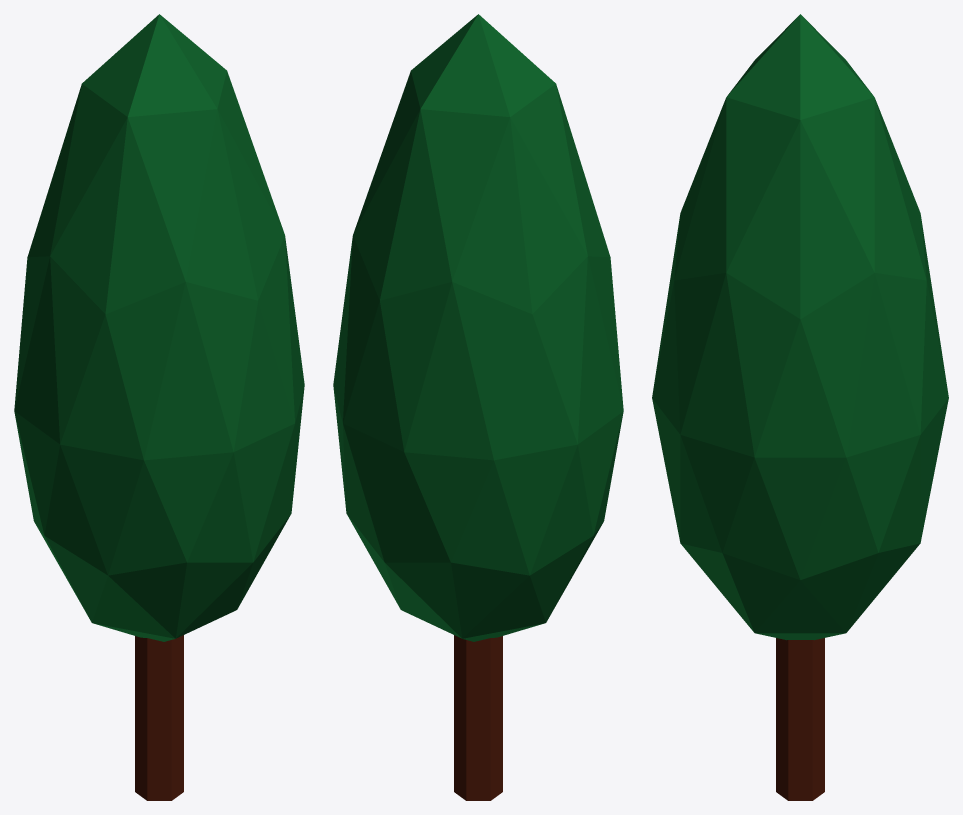
The model's file is tree1.obj.
3 views of the same model, side by side, from view 1: azimuth 30°, elevation 25°; view 2: azimuth 150°, elevation 25°; view 3: azimuth 270°, elevation 25° (orthographic).
Parts seen in each view (by area): view 1: tree1; view 2: tree1; view 3: tree1.
Boxes of the visible parts, x1,y1,x2,y2 form: tree1: (14, 14, 304, 800); tree1: (333, 14, 623, 800); tree1: (652, 14, 948, 800).
Size of the model in its own units: 2.76 by 8.4 by 2.91.
